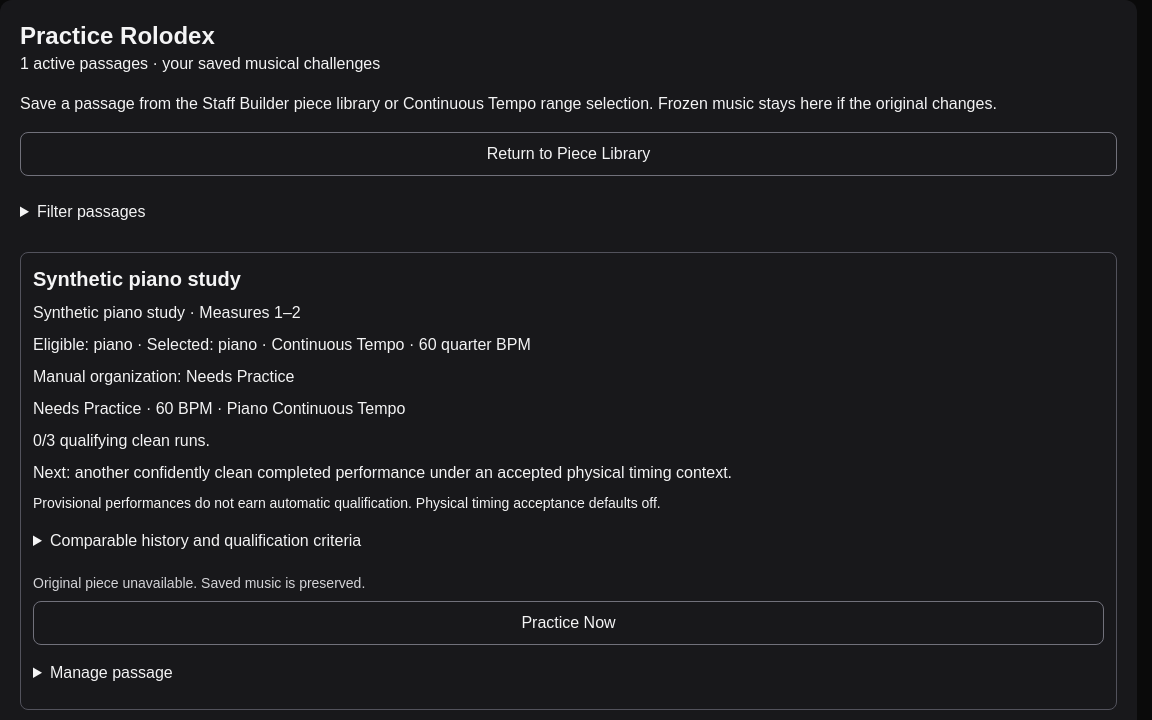
Test: compact Rolodex library › finds and prepares frozen music after original deletion
Expected: the text "1 active passages · your saved musical challenges" is shown, [20,55,380,72]
Expected: the text "Original piece unavailable. Saved music is preserved." is shown, [33,575,365,591]
Step 1. Click the button "Practice Now" → [568, 623], box [33,601,1104,645]
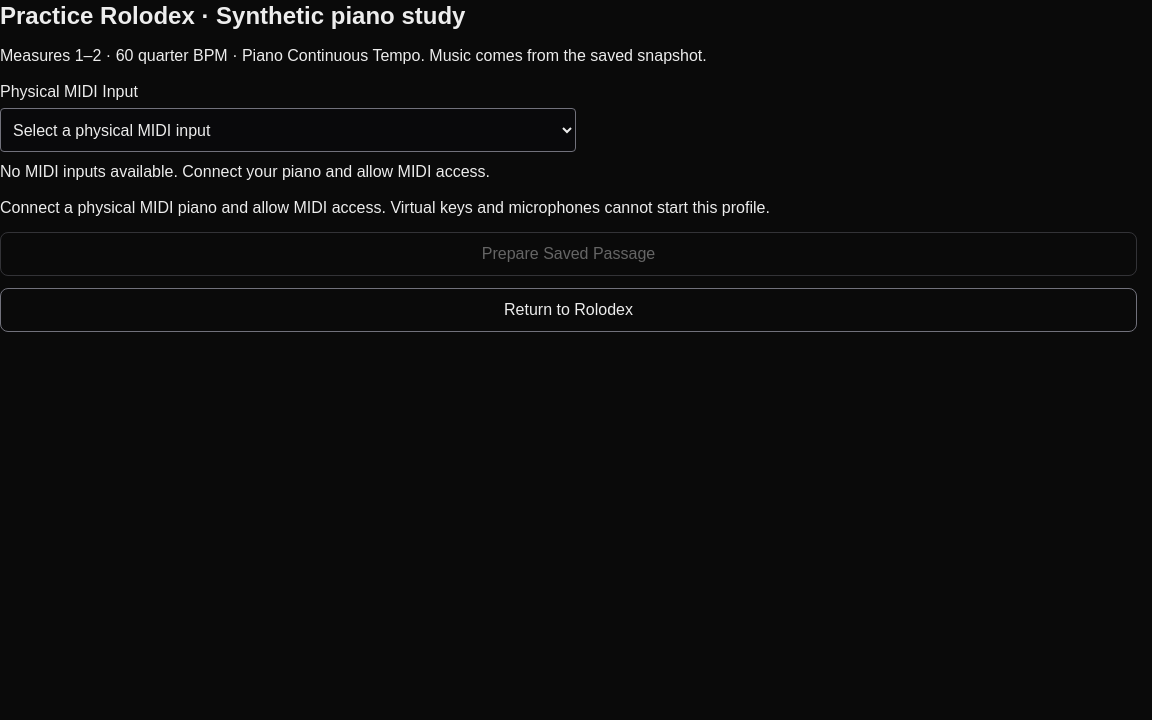
Expected: the text "Music comes from the saved snapshot" is shown, [133,47,707,64]
Expected: the button "Prepare Saved Passage" is disabled, [0,232,1137,276]
